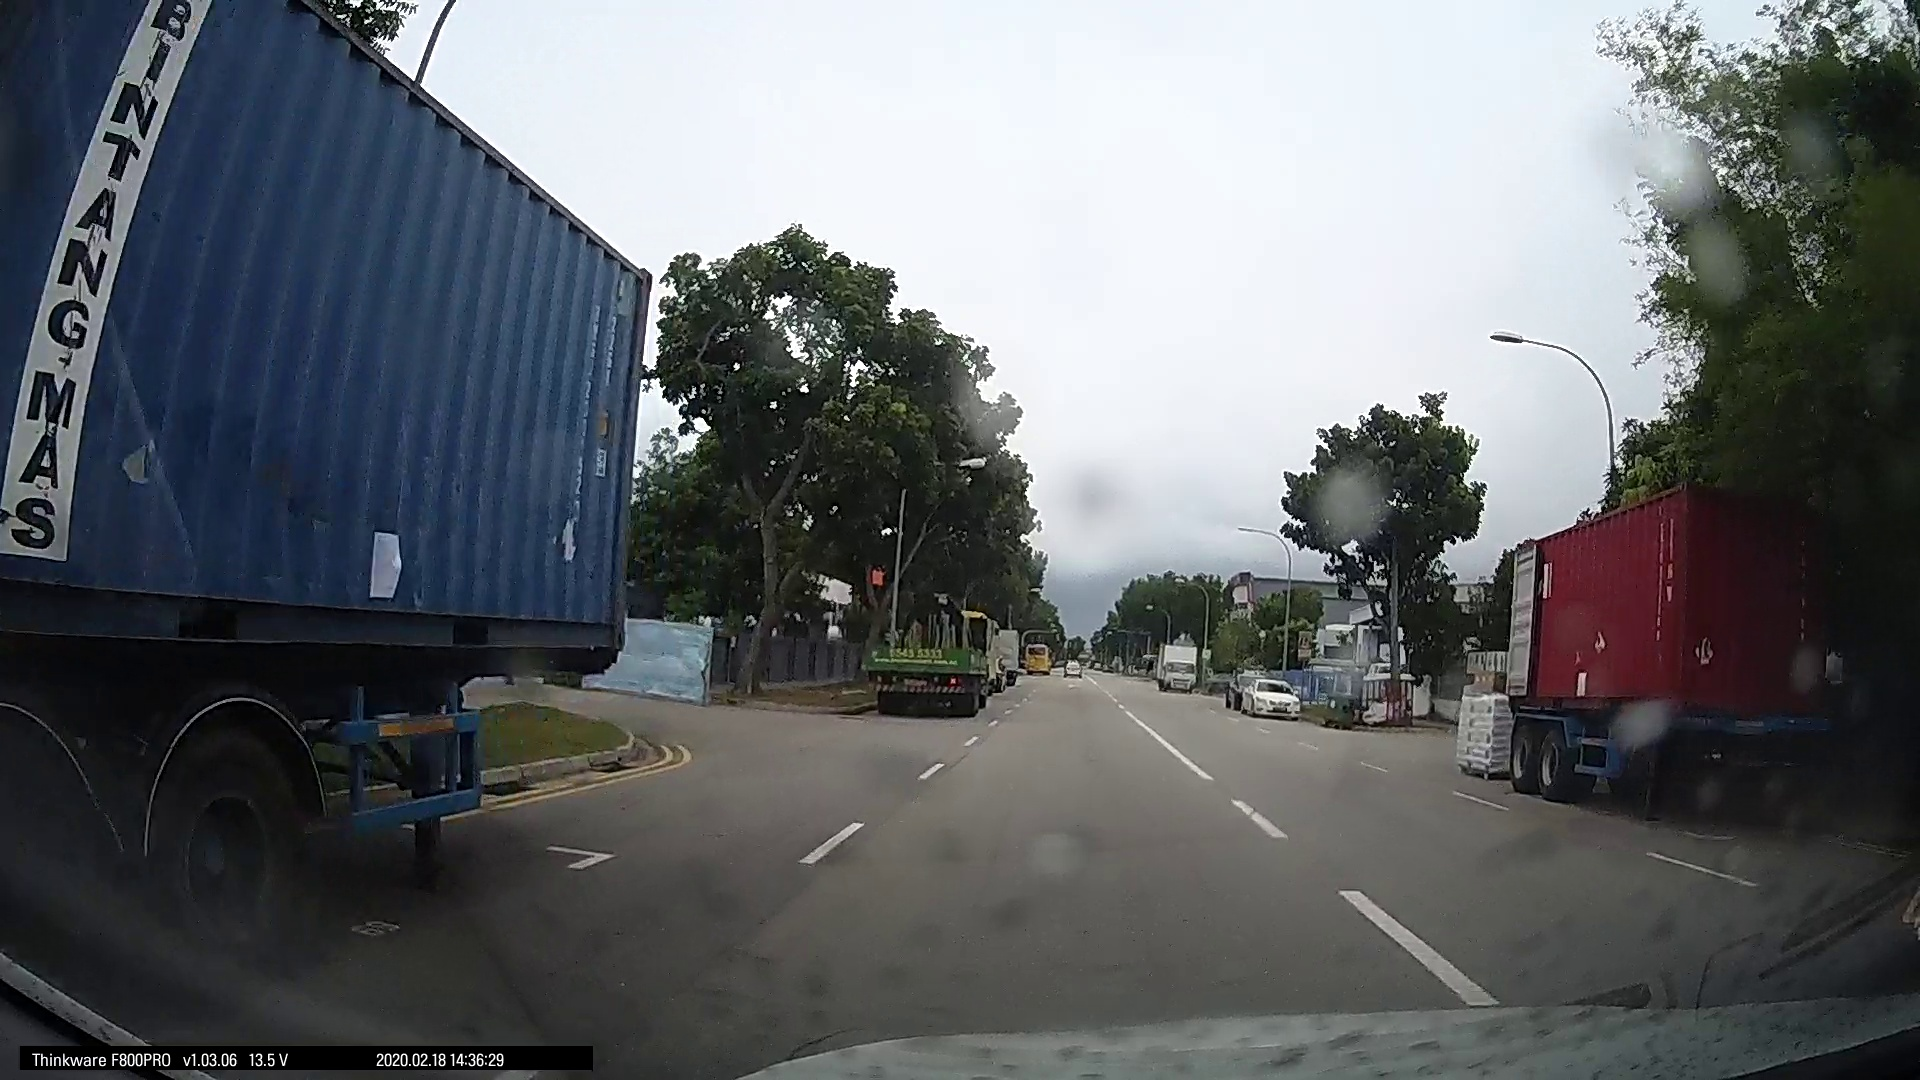Heavy Vehicle: (4, 1, 634, 968), (1494, 472, 1873, 810), (865, 597, 998, 713)
Light Vehicle: (1228, 669, 1302, 721), (1153, 641, 1200, 691)
